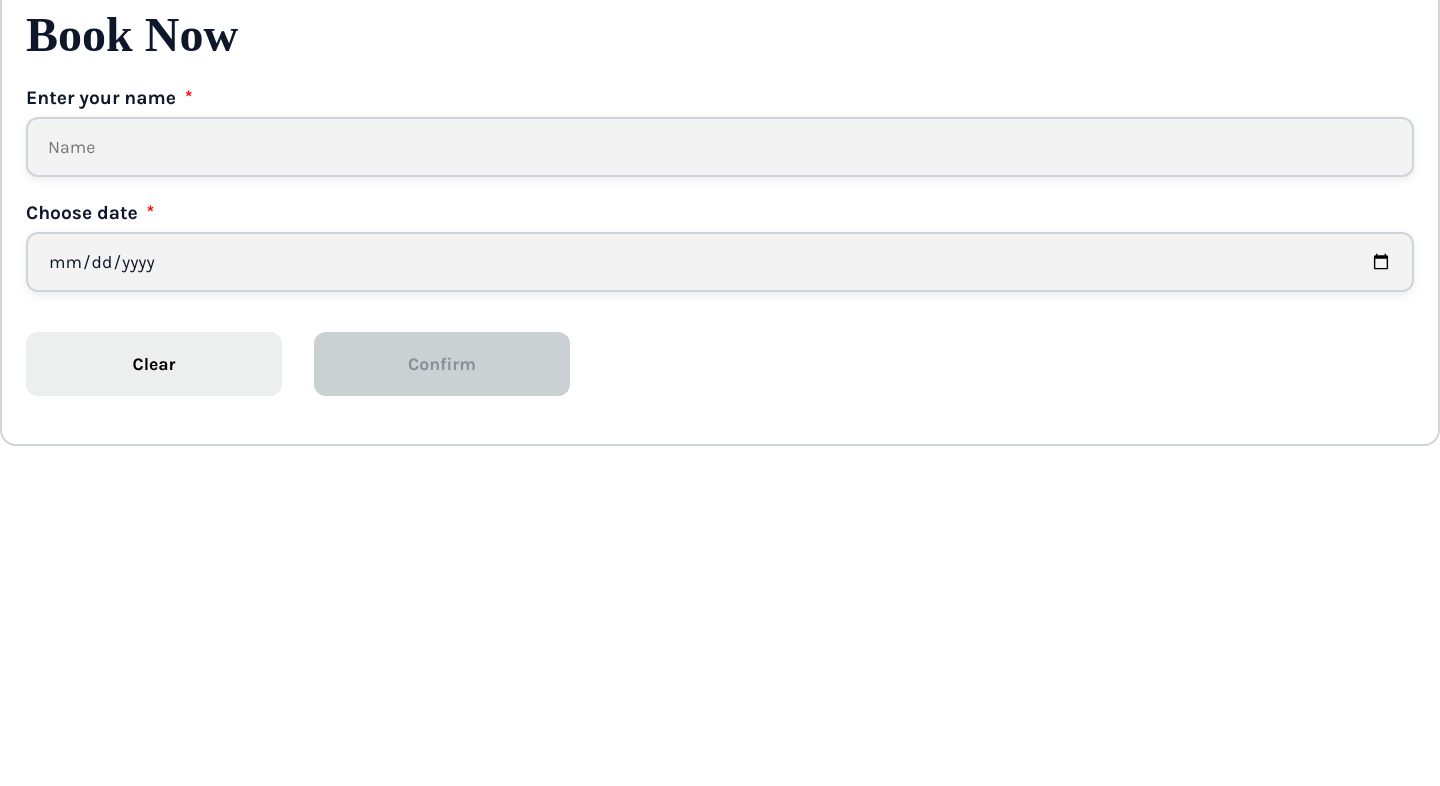
it: clears form after successful submission
This screenshot has width=1440, height=786.
Type "jane doe" into the field labelled "Enter your name *".
click(720, 147); type("jane doe")  # box [26,117,1414,177]
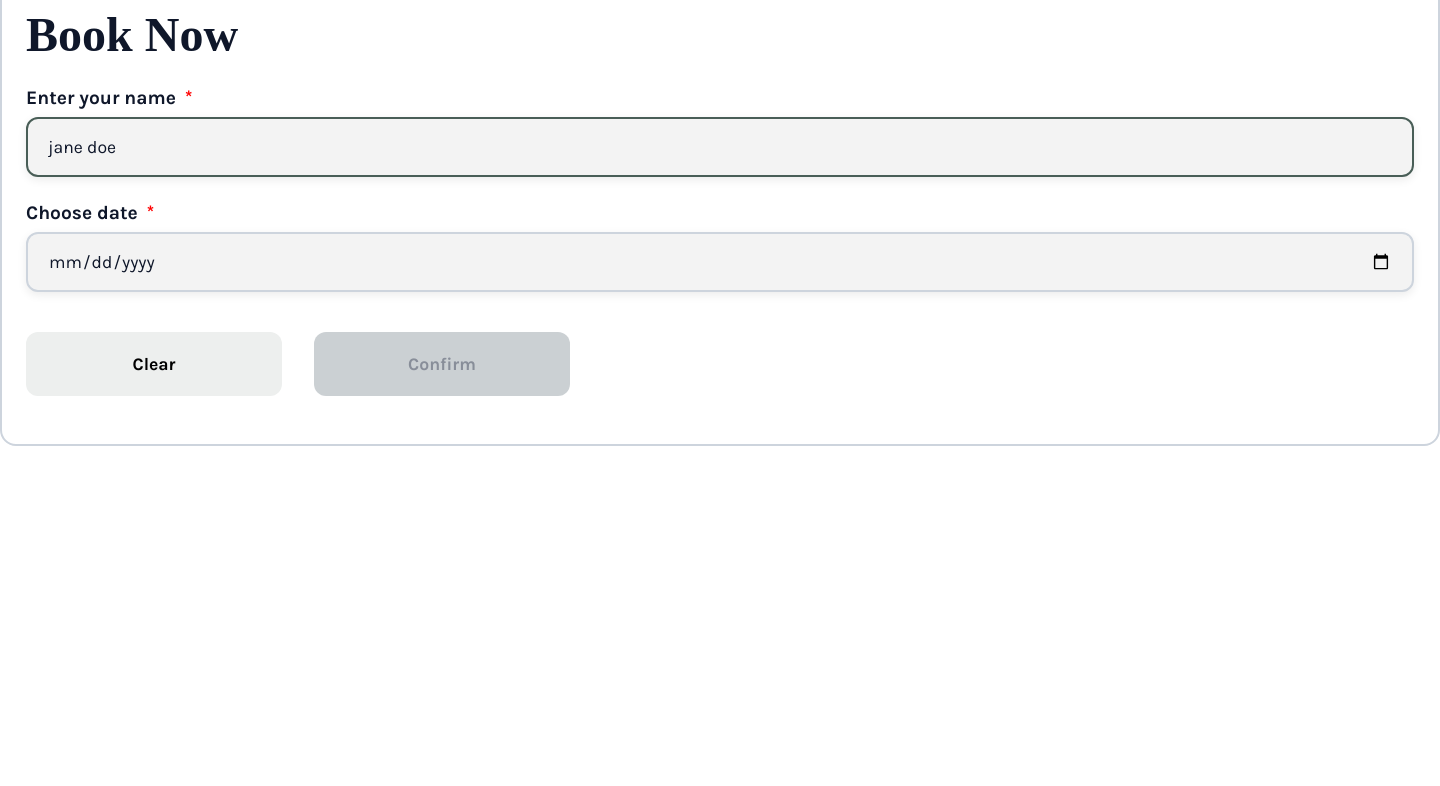
Type "2099-06-10" into the date field labelled "Choose date *".
click(720, 262); type("2099-06-10")  # box [26,232,1414,292]
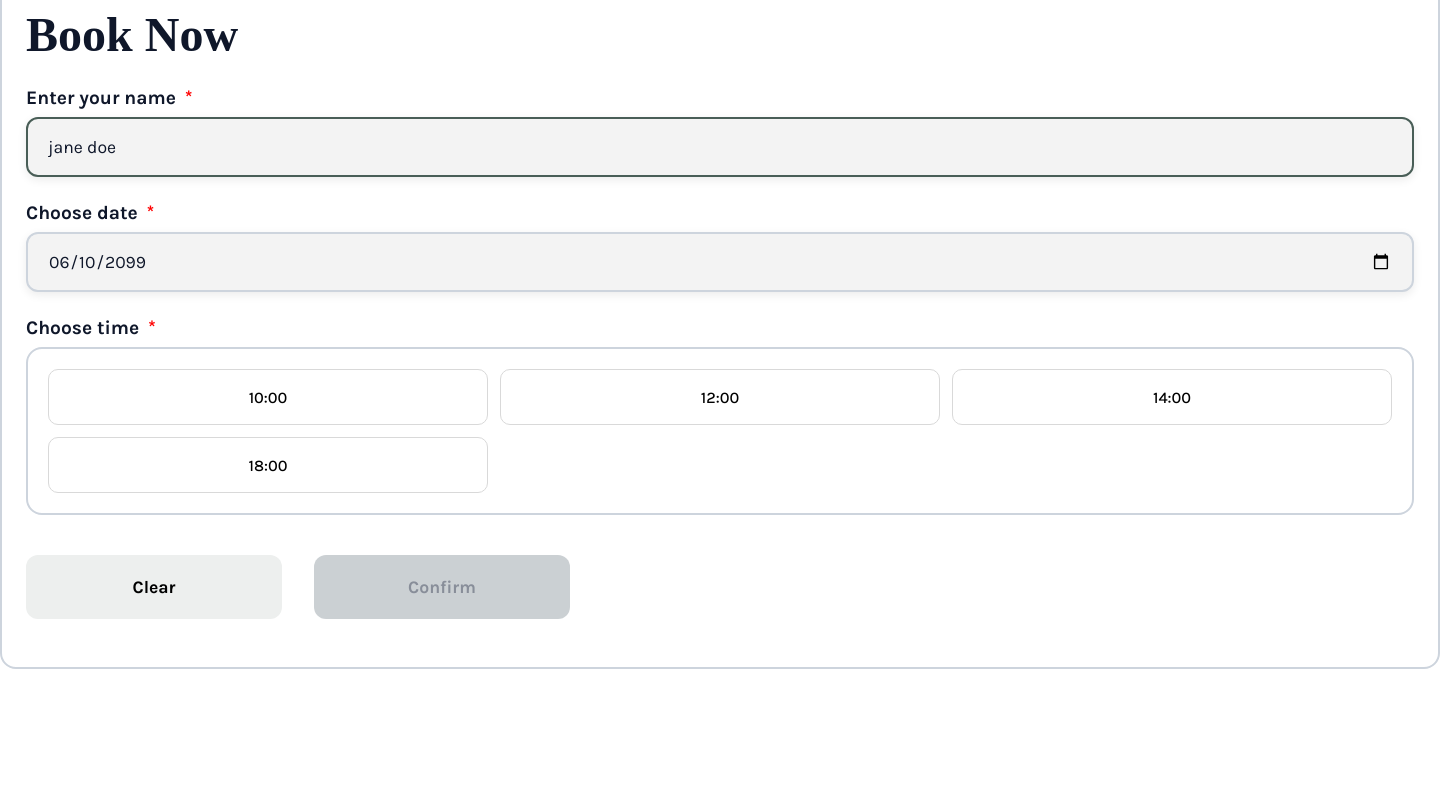
Click the button "18:00".
click(268, 465)  # box [48,437,488,493]
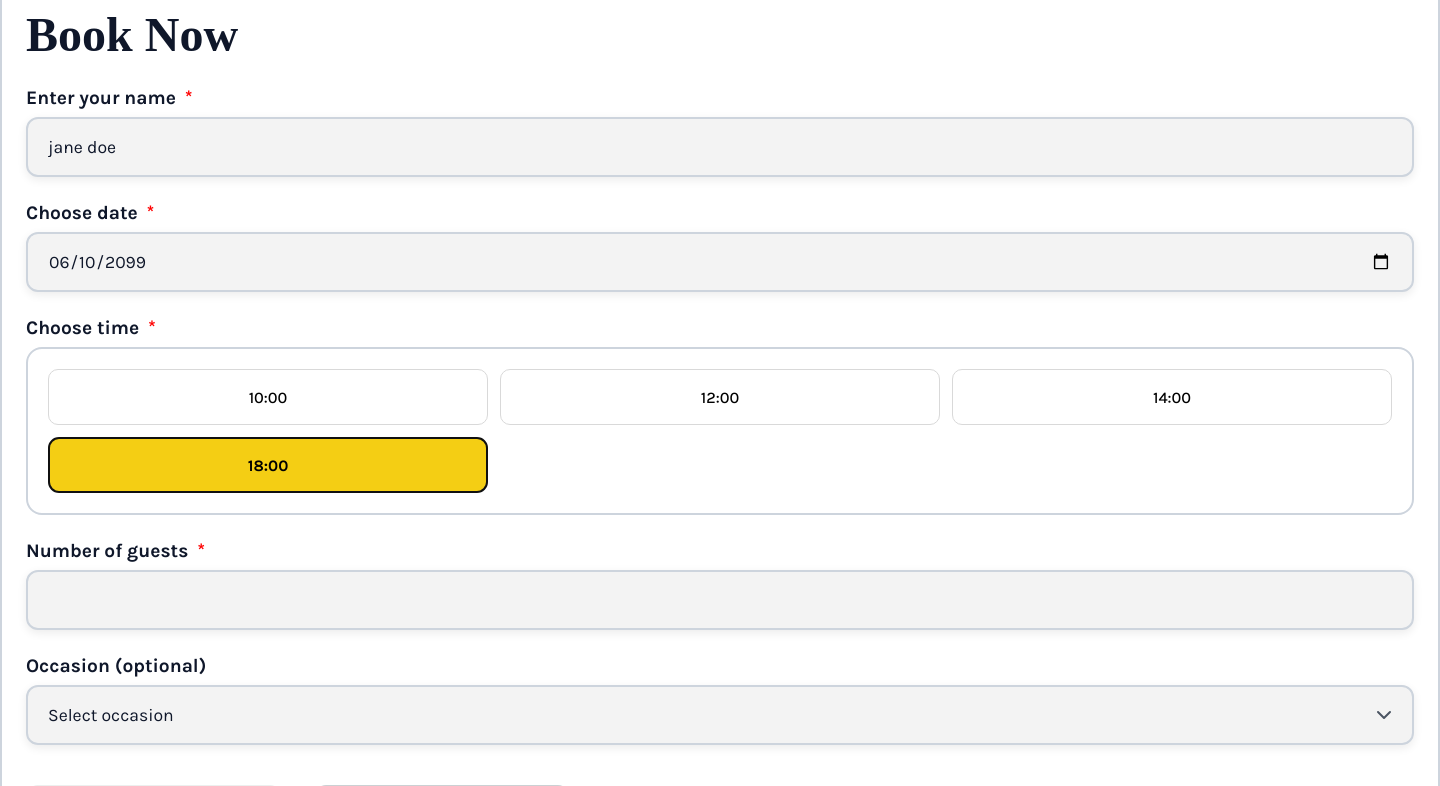
Type "2" into the number field labelled "Number of guests *".
click(720, 600); type("2")  # box [26,570,1414,630]
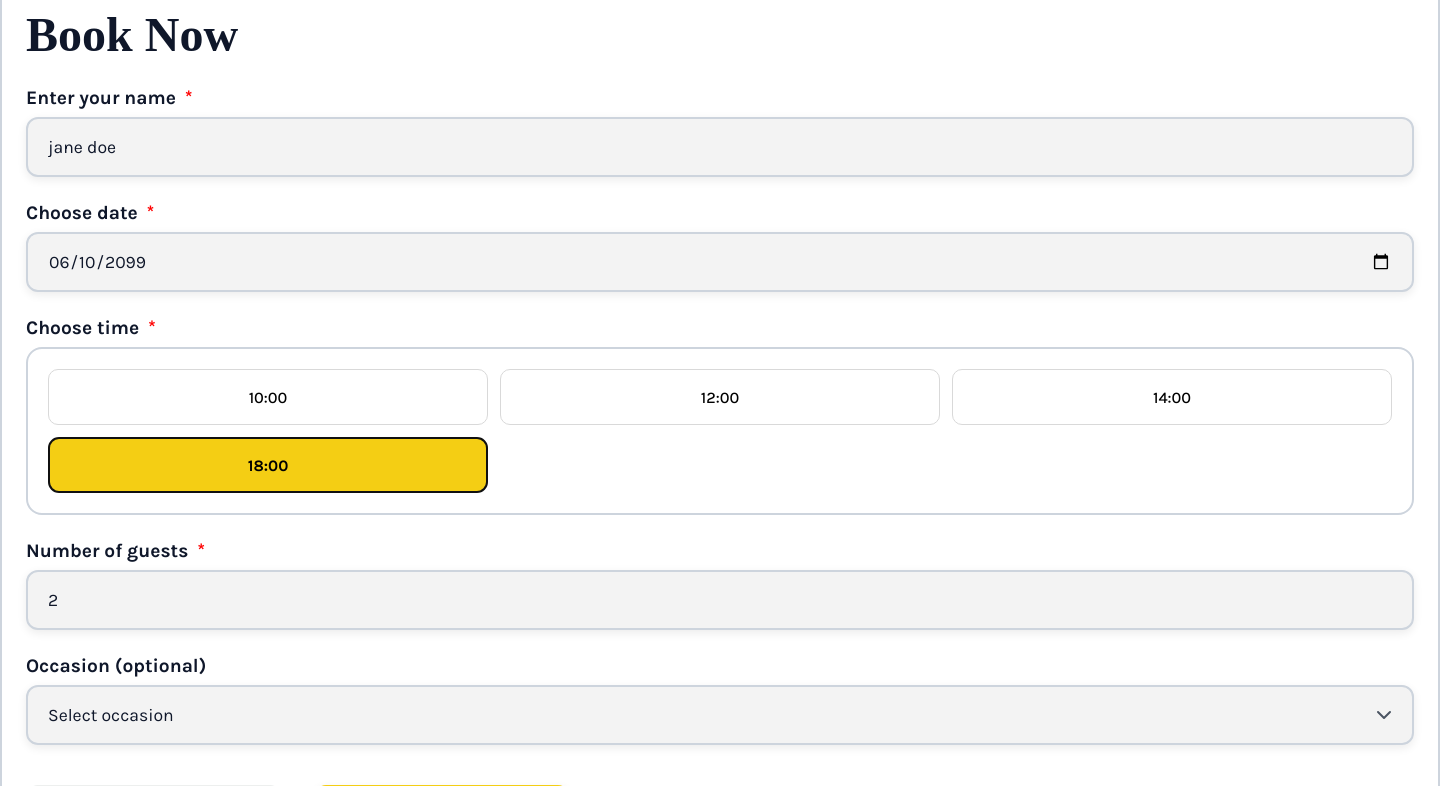
Select "Birthday" in the dropdown labelled "Occasion (optional)" at (720, 715), box [26,685,1414,745]
(page scrolled)
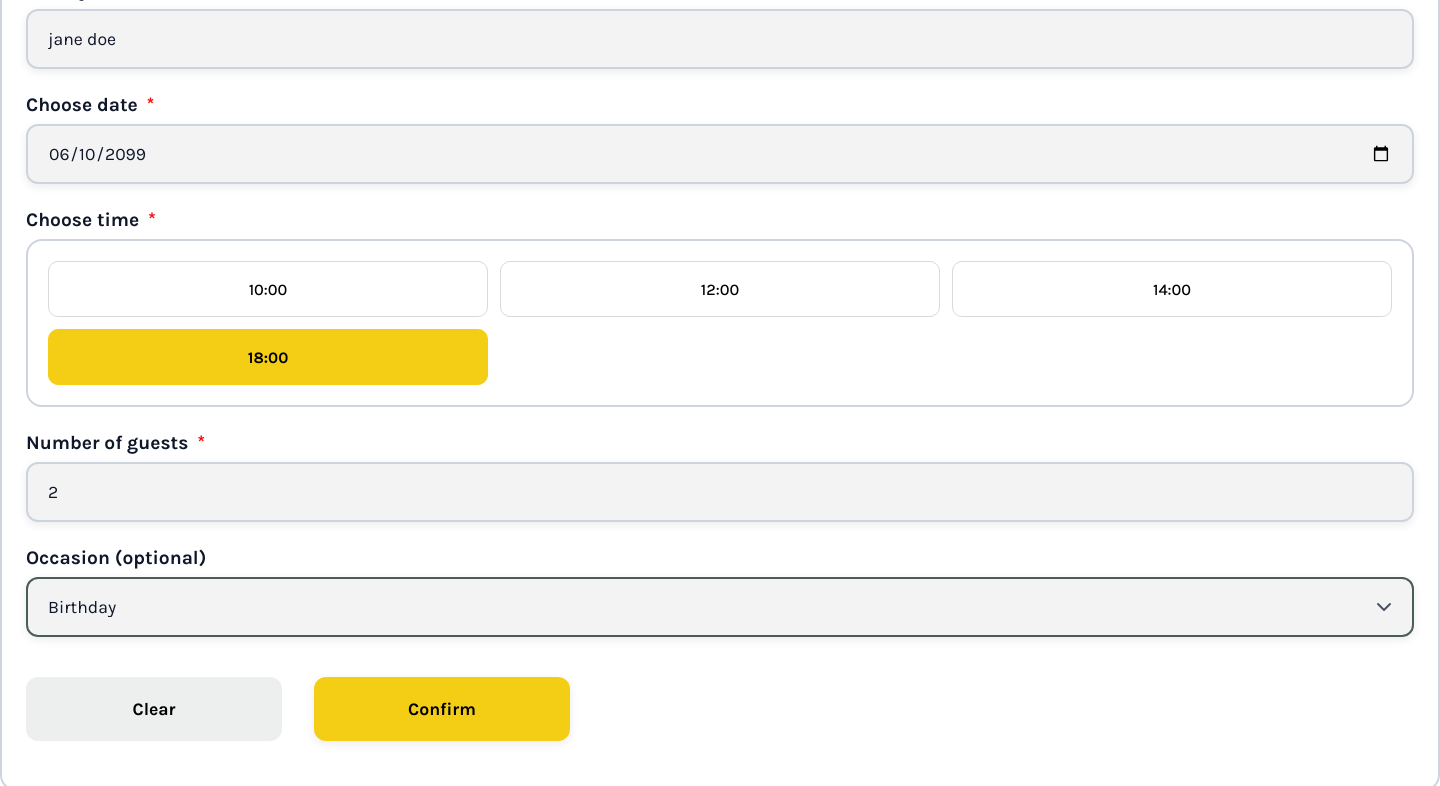
Click the button "Confirm".
click(442, 709)  # box [314,677,570,741]
(page scrolled)
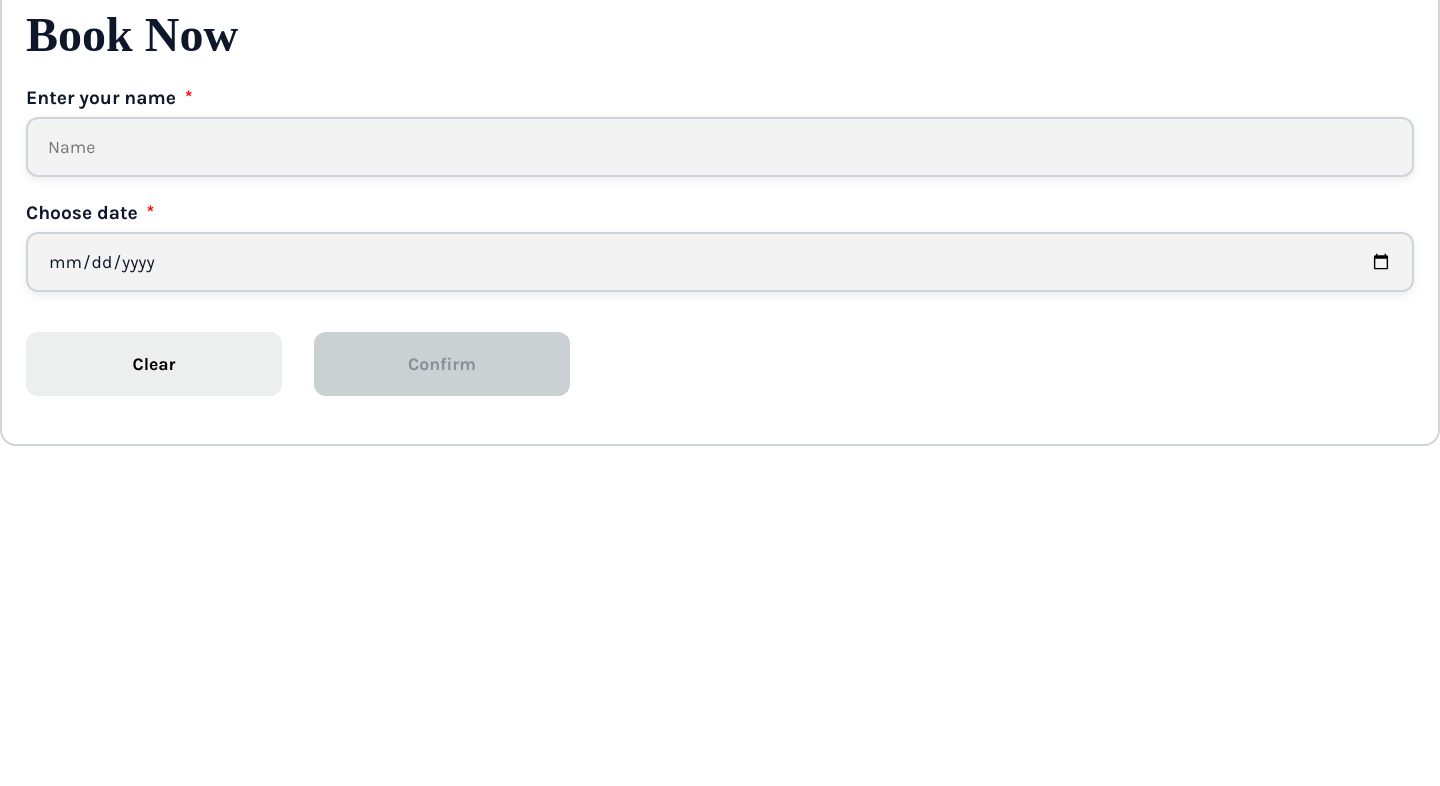
Expected: the field labelled "Enter your name *" is empty, [26,117,1414,177]
Expected: the date field labelled "Choose date *" is empty, [26,232,1414,292]
Expected: the label labelled "Number of guests" is gone
